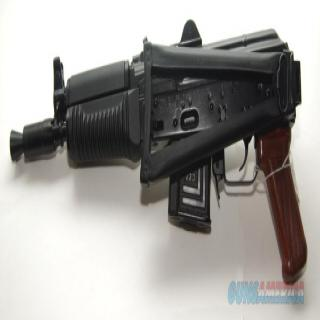gun: (10, 19, 307, 279)
